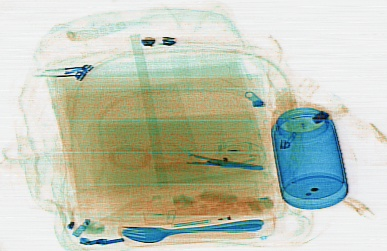scissors: (147, 136, 262, 172)
